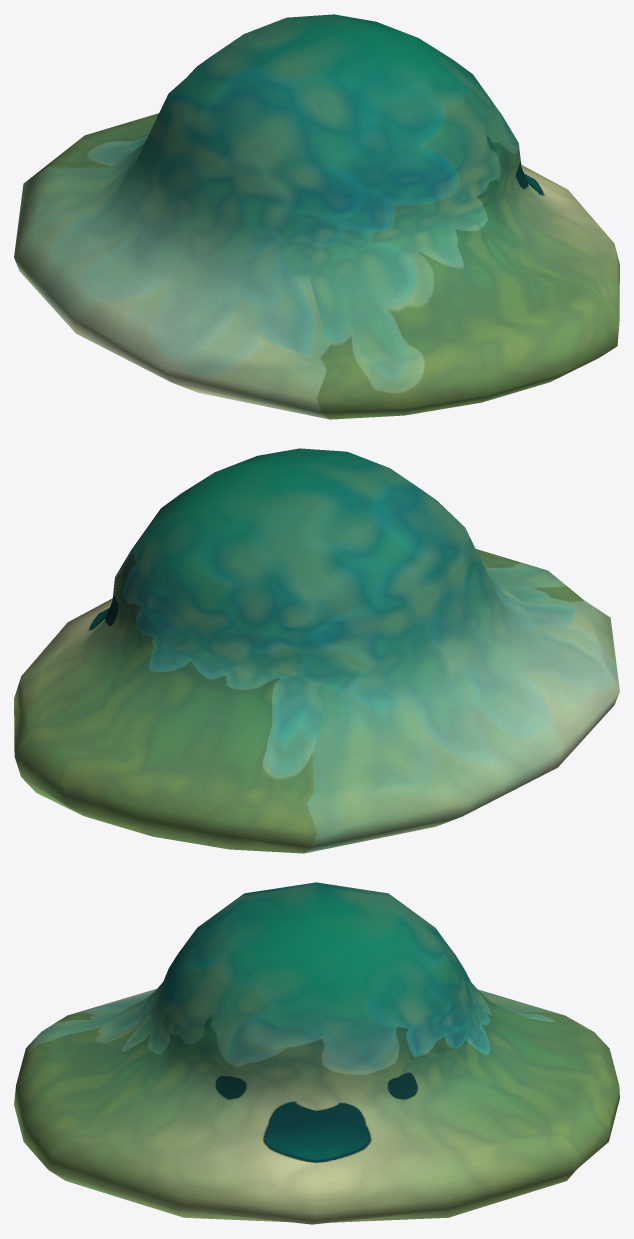
The model's file is FireSlime.fbx.
The picture shows the model from 3 angles, top to bottom: view 1: azimuth 30°, elevation 25°; view 2: azimuth 150°, elevation 25°; view 3: azimuth 270°, elevation 25°; orthographic projection. The views are drawn at different scales.
Parts seen in each view (by area): view 1: Slime Default; view 2: Slime Default; view 3: Slime Default.
Boxes of the visible parts, x1,y1,x2,y2 form: Slime Default: (14, 14, 619, 419); Slime Default: (14, 448, 619, 853); Slime Default: (14, 882, 619, 1224).
Size of the model in its own units: 311 by 165 by 367.
